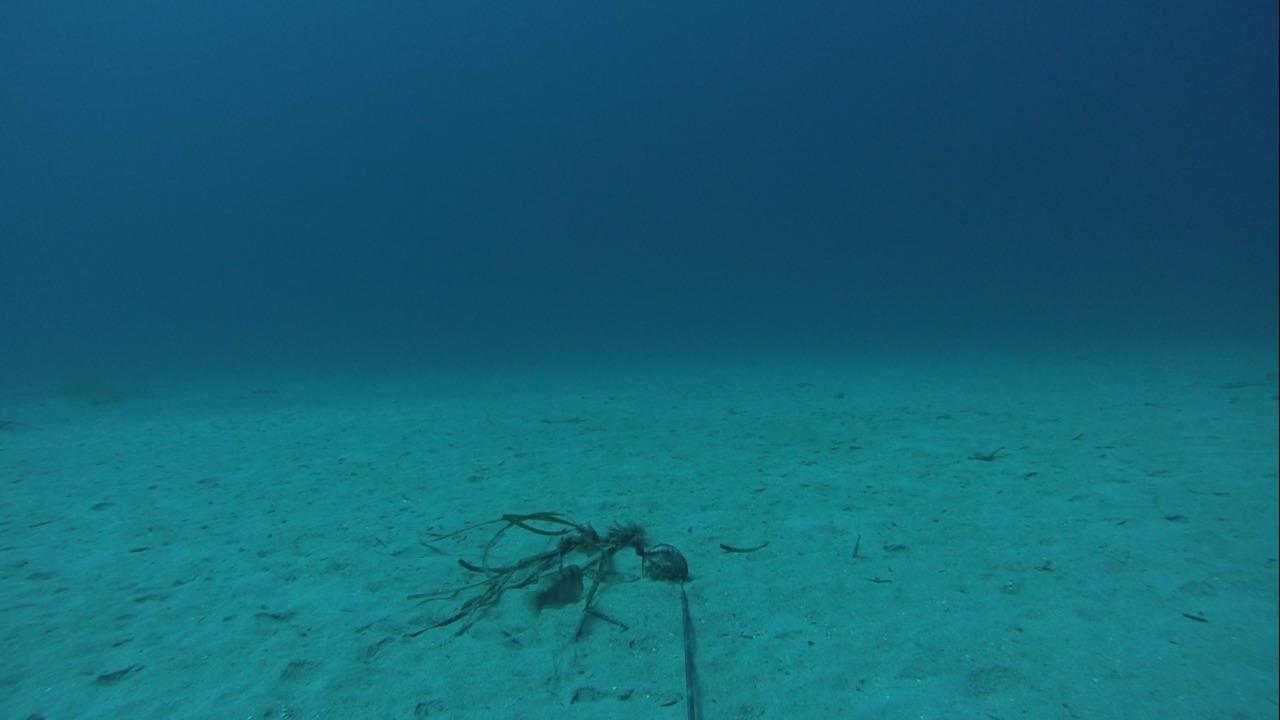raor: (525, 562, 588, 614)
